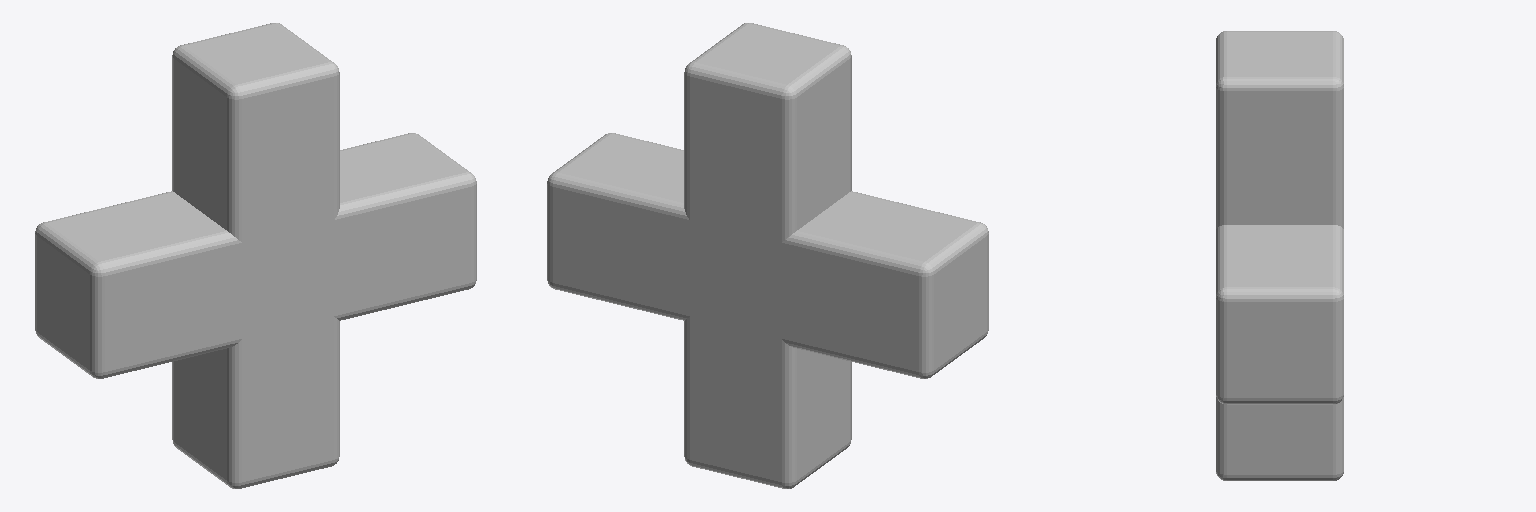
The model's file is healthBoost.obj.
3 views of the same model, side by side, from view 1: azimuth 30°, elevation 25°; view 2: azimuth 150°, elevation 25°; view 3: azimuth 270°, elevation 25° (orthographic).
Visible parts, largest first — view 1: Cube; view 2: Cube; view 3: Cube.
Part boxes in pixels (left/top/right/bottom): Cube: left=35, top=23, right=476, bottom=488; Cube: left=547, top=23, right=988, bottom=488; Cube: left=1216, top=31, right=1343, bottom=480.
Size of the model in its own units: 6.94 by 6.94 by 2.